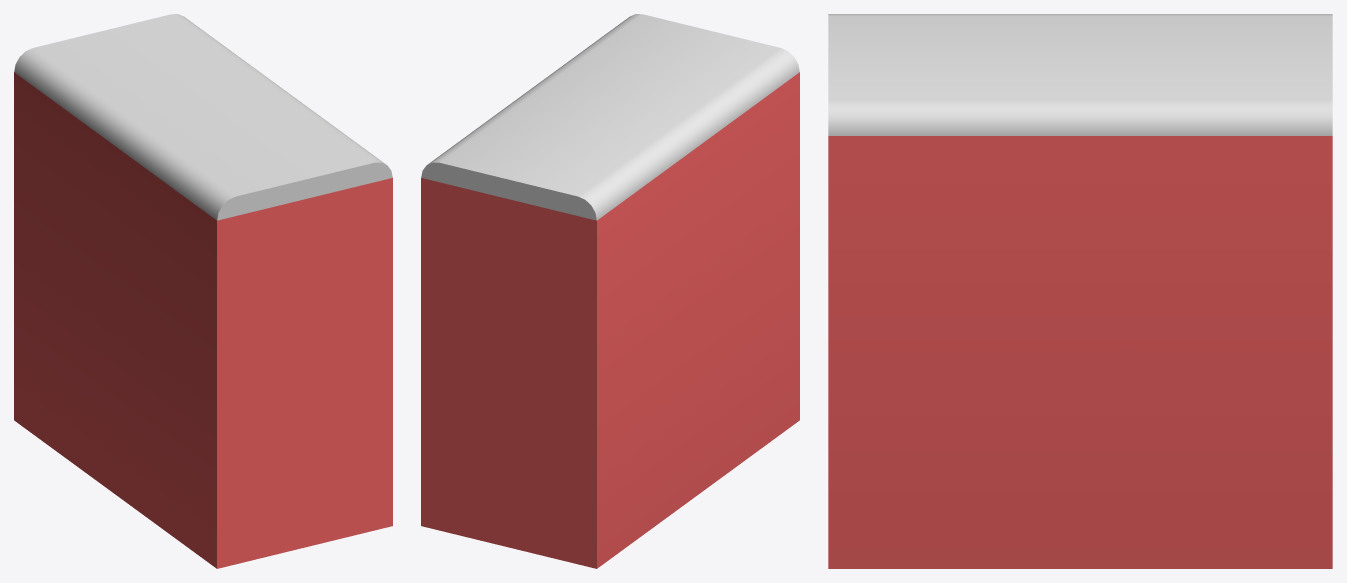
The model's file is CubeForTile_07.1.fbx.
The picture shows the model from 3 angles, left to right: view 1: azimuth 30°, elevation 25°; view 2: azimuth 150°, elevation 25°; view 3: azimuth 270°, elevation 25°; orthographic projection. The views are drawn at different scales.
Parts seen in each view (by area): view 1: CubeForTile_07.1; view 2: CubeForTile_07.1; view 3: CubeForTile_07.1.
Part boxes in pixels (x1,y1,x2,y2): CubeForTile_07.1: (14, 14, 392, 568); CubeForTile_07.1: (421, 14, 799, 568); CubeForTile_07.1: (828, 14, 1332, 568).
Size of the model in its own units: 100 by 200 by 200.
